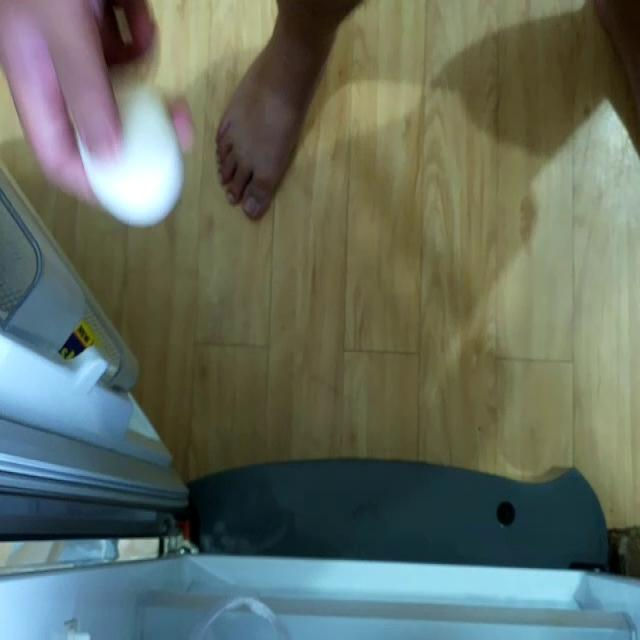egg: (78, 87, 180, 224)
